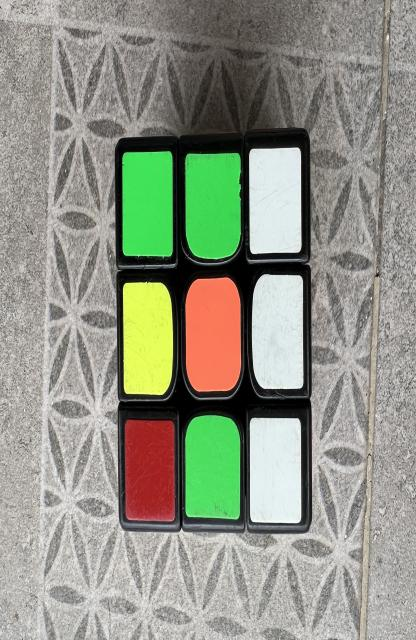Green: (185, 153, 240, 260), (185, 415, 240, 520), (123, 152, 173, 257)
Orange: (185, 277, 241, 392)
Red: (125, 420, 175, 522)
White: (252, 273, 303, 388), (249, 147, 301, 253), (249, 417, 301, 523)
Yellow: (123, 282, 173, 395)
